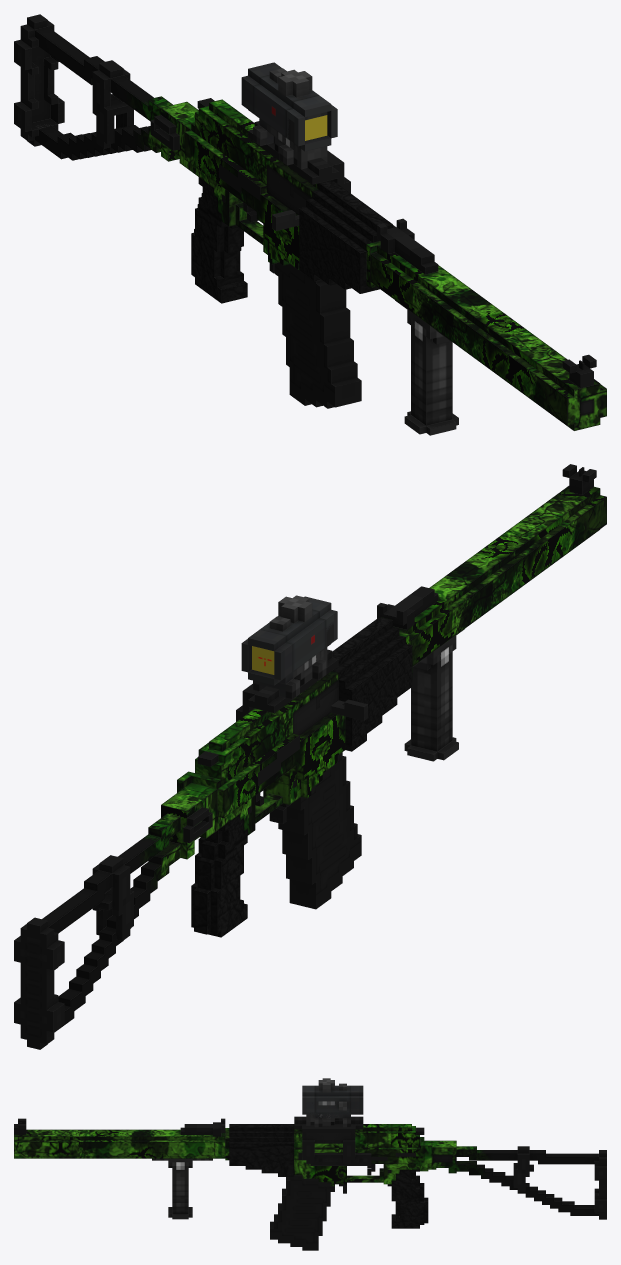
Rendered from RD_ZASVAL.glb.
3 views of the same model, one above another, from view 1: azimuth 30°, elevation 25°; view 2: azimuth 150°, elevation 25°; view 3: azimuth 270°, elevation 25° (orthographic). The views are drawn at different scales.
Parts seen in each view (by area): view 1: ASVAL, ASVAL_CLIP, SCOPE_TASCO, GRIP1, ASVAL_PLANK, SCOPE_AIMPOINT; view 2: ASVAL, ASVAL_CLIP, SCOPE_TASCO, GRIP1, ASVAL_PLANK; view 3: ASVAL, ASVAL_CLIP, ASVAL_PLANK (×2), SCOPE_TASCO, GRIP1, SCOPE_AIMPOINT.
Boxes of the visible parts, left/top/right/bottom form: ASVAL: left=14, top=14, right=606, bottom=430; ASVAL_CLIP: left=274, top=262, right=361, bottom=408; SCOPE_TASCO: left=241, top=62, right=337, bottom=165; GRIP1: left=395, top=300, right=458, bottom=435; ASVAL_PLANK: left=248, top=121, right=350, bottom=193; SCOPE_AIMPOINT: left=267, top=112, right=327, bottom=169; ASVAL: left=14, top=464, right=606, bottom=1049; ASVAL_CLIP: left=278, top=752, right=361, bottom=909; SCOPE_TASCO: left=241, top=595, right=337, bottom=699; GRIP1: left=404, top=629, right=464, bottom=761; ASVAL_PLANK: left=236, top=649, right=338, bottom=721; ASVAL: left=14, top=1118, right=606, bottom=1228; ASVAL_CLIP: left=270, top=1175, right=334, bottom=1250; ASVAL_PLANK (×2): left=294, top=1116, right=371, bottom=1165; SCOPE_TASCO: left=302, top=1078, right=363, bottom=1127; GRIP1: left=152, top=1158, right=212, bottom=1219; SCOPE_AIMPOINT: left=306, top=1103, right=342, bottom=1125.
Bounding box in the file's own units: 0.1181 × 0.4429 × 1.44.
Materials: 6 (6 with a texture image).
